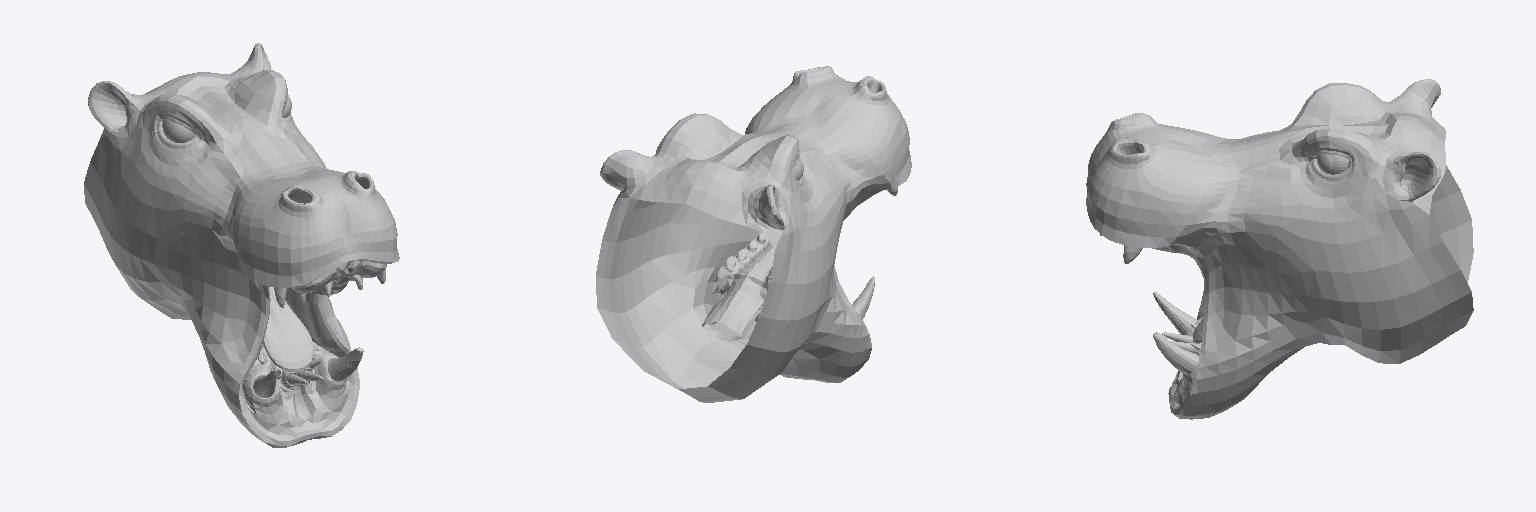
The model's file is Hipo.obj.
3 views of the same model, side by side, from view 1: azimuth 30°, elevation 25°; view 2: azimuth 150°, elevation 25°; view 3: azimuth 270°, elevation 25° (orthographic).
Visible parts, largest first — view 1: Ojos_Mesh.003; view 2: Ojos_Mesh.003; view 3: Ojos_Mesh.003.
Part boxes in pixels (x1,y1,x2,y2): Ojos_Mesh.003: (84, 43, 399, 447); Ojos_Mesh.003: (596, 66, 911, 402); Ojos_Mesh.003: (1086, 79, 1473, 419).
Bounding box in the file's own units: 1.01 × 1.59 × 1.88.